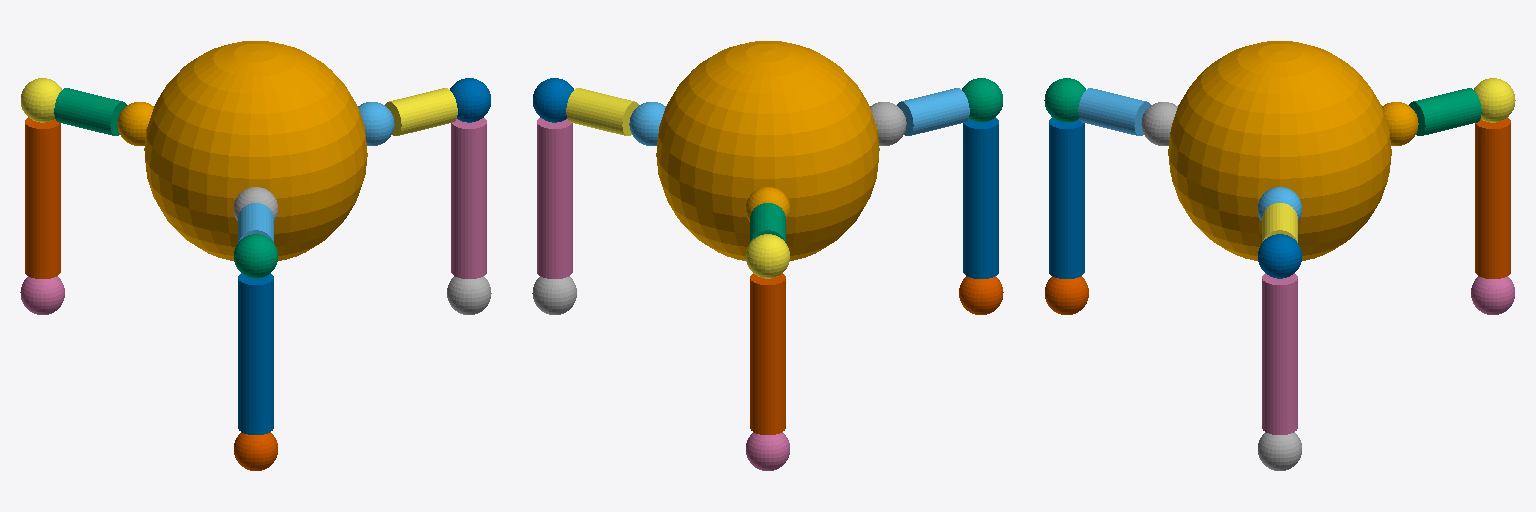
robot.urdf — spider:
<?xml version="1.0"?>
<robot name="spider">
<link name="eye">
  <inertial>
   <mass value="1"/>
   <inertia ixx="0.1" ixy="0" ixz="0" iyy="0.1" iyz="0" izz="0.1"/>
  </inertial>
  <collision>
    <origin rpy="0 0 0" xyz="0 0 0"/>
    <geometry>
      <sphere radius="0.5"/>
    </geometry>
  </collision>
  <visual>
    <origin rpy="0 0 0" xyz="0 0 0"/>
    <geometry>
      <sphere radius="0.5"/>
    </geometry>
  </visual>
</link>

<link name="eye_sphere_0">
  <inertial>
   <mass value="1"/>
   <inertia ixx="0.004" ixy="0" ixz="0" iyy="0.004" iyz="0" izz="0.004"/>
  </inertial>
  <collision>
    <origin rpy="0 0 0" xyz="0.6 0.0 0"/>
    <geometry>
      <sphere radius="0.1"/>
    </geometry>
  </collision>
  <visual>
    <origin rpy="0 0 0" xyz="0.6 0.0 0"/>
    <geometry>
      <sphere radius="0.1"/>
    </geometry>
  </visual>
</link>

<joint name="eye_sphere_0_fixed" type="fixed">
  <origin rpy="0 0 0" xyz="0 0 0"/>
  <parent link="eye"/>
  <child link="eye_sphere_0"/>
</joint>

<joint name="leg_0_link0_spherical_Z" type="revolute">
  <origin rpy="0 0 0" xyz="0.6 0.0 0"/>
  <parent link="eye_sphere_0"/>
  <child link="eye_sphere_0_spherical_joint_link"/>
  <axis xyz="0 0 1"/>
  <dynamics damping="1" friction="0"/>
  <limit lower="-0.785398163397" upper="0.785398163397" effort="0.5" velocity="100"/>
</joint>

<link name="eye_sphere_0_spherical_joint_link" physical="0">
  <inertial>
   <mass value="1"/>
   <inertia ixx="4e-07" ixy="0" ixz="0" iyy="4e-07" iyz="0" izz="4e-07"/>
  </inertial>
  <collision>
    <origin rpy="0 0 0" xyz="0 0 0"/>
    <geometry>
      <sphere radius="0.001"/>
    </geometry>
  </collision>
  <visual>
    <origin rpy="0 0 0" xyz="0 0 0"/>
    <geometry>
      <sphere radius="0.001"/>
    </geometry>
  </visual>
</link>

<joint name="leg_0_link0_spherical_Y" type="revolute">
  <origin rpy="0 0 0" xyz="0 0 0"/>
  <parent link="eye_sphere_0_spherical_joint_link"/>
  <child link="leg_0_link0"/>
  <axis xyz="0 1 0"/>
  <dynamics damping="1" friction="0"/>
  <limit lower="-0.785398163397" upper="0.785398163397" effort="0.5" velocity="100"/>
</joint>

 <link name="leg_0_link0">
  <inertial>
    <mass value="1"/>
    <inertia ixx="0.00860833333333" ixy="0" ixz="0" iyy="0.00860833333333" iyz="0" izz="0.0016"/>
  </inertial>
  <visual>
    <origin rpy="0 1.57 0.0" xyz="0.25 0.0 0"/>
    <geometry>
      <cylinder length="0.29" radius="0.08"/>
    </geometry>
  </visual>
  <collision>
    <origin rpy="0 1.57 0.0" xyz="0.25 0.0 0"/>
    <geometry>
      <cylinder length="0.29" radius="0.08"/>
    </geometry>
  </collision>
 </link>

<link name="leg_0_link0_sphere">
  <inertial>
   <mass value="1"/>
   <inertia ixx="0.004" ixy="0" ixz="0" iyy="0.004" iyz="0" izz="0.004"/>
  </inertial>
  <collision>
    <origin rpy="0 0 0" xyz="0.5 0.0 0"/>
    <geometry>
      <sphere radius="0.1"/>
    </geometry>
  </collision>
  <visual>
    <origin rpy="0 0 0" xyz="0.5 0.0 0"/>
    <geometry>
      <sphere radius="0.1"/>
    </geometry>
  </visual>
</link>

<joint name="leg_0_link0_fixed" type="fixed">
  <origin rpy="0 0 0" xyz="0 0 0"/>
  <parent link="leg_0_link0"/>
  <child link="leg_0_link0_sphere"/>
</joint>

<joint name="leg_0_link1_spherical_Z" type="revolute">
  <origin rpy="0 0 0" xyz="0.5 0.0 0"/>
  <parent link="leg_0_link0_sphere"/>
  <child link="leg_0_link0_sphere_spherical_joint_link"/>
  <axis xyz="0 0 1"/>
  <dynamics damping="1" friction="0"/>
  <limit lower="-0.785398163397" upper="0.785398163397" effort="0.5" velocity="100"/>
</joint>

<link name="leg_0_link0_sphere_spherical_joint_link" physical="0">
  <inertial>
   <mass value="1"/>
   <inertia ixx="4e-07" ixy="0" ixz="0" iyy="4e-07" iyz="0" izz="4e-07"/>
  </inertial>
  <collision>
    <origin rpy="0 0 0" xyz="0 0 0"/>
    <geometry>
      <sphere radius="0.001"/>
    </geometry>
  </collision>
  <visual>
    <origin rpy="0 0 0" xyz="0 0 0"/>
    <geometry>
      <sphere radius="0.001"/>
    </geometry>
  </visual>
</link>

<joint name="leg_0_link1_spherical_Y" type="revolute">
  <origin rpy="0 0 0" xyz="0 0 0"/>
  <parent link="leg_0_link0_sphere_spherical_joint_link"/>
  <child link="leg_0_link1"/>
  <axis xyz="0 1 0"/>
  <dynamics damping="1" friction="0"/>
  <limit lower="-0.785398163397" upper="0.785398163397" effort="0.5" velocity="100"/>
</joint>

 <link name="leg_0_link1">
  <inertial>
    <mass value="1"/>
    <inertia ixx="0.0472333333333" ixy="0" ixz="0" iyy="0.0472333333333" iyz="0" izz="0.0016"/>
  </inertial>
  <visual>
    <origin rpy="0 0 0.0" xyz="0 0 -0.475"/>
    <geometry>
      <cylinder length="0.74" radius="0.08"/>
    </geometry>
  </visual>
  <collision>
    <origin rpy="0 0 0.0" xyz="0 0 -0.475"/>
    <geometry>
      <cylinder length="0.74" radius="0.08"/>
    </geometry>
  </collision>
 </link>

<link name="leg_0_link1_sphere">
  <inertial>
   <mass value="1"/>
   <inertia ixx="0.004" ixy="0" ixz="0" iyy="0.004" iyz="0" izz="0.004"/>
  </inertial>
  <collision>
    <origin rpy="0 0 0" xyz="0 0 -0.95"/>
    <geometry>
      <sphere radius="0.1"/>
    </geometry>
  </collision>
  <visual>
    <origin rpy="0 0 0" xyz="0 0 -0.95"/>
    <geometry>
      <sphere radius="0.1"/>
    </geometry>
  </visual>
</link>

<joint name="leg_0_link1_fixed" type="fixed">
  <origin rpy="0 0 0" xyz="0 0 0"/>
  <parent link="leg_0_link1"/>
  <child link="leg_0_link1_sphere"/>
</joint>

<link name="eye_sphere_1">
  <inertial>
   <mass value="1"/>
   <inertia ixx="0.004" ixy="0" ixz="0" iyy="0.004" iyz="0" izz="0.004"/>
  </inertial>
  <collision>
    <origin rpy="0 0 0" xyz="-0.3 0.519615242271 0"/>
    <geometry>
      <sphere radius="0.1"/>
    </geometry>
  </collision>
  <visual>
    <origin rpy="0 0 0" xyz="-0.3 0.519615242271 0"/>
    <geometry>
      <sphere radius="0.1"/>
    </geometry>
  </visual>
</link>

<joint name="eye_sphere_1_fixed" type="fixed">
  <origin rpy="0 0 0" xyz="0 0 0"/>
  <parent link="eye"/>
  <child link="eye_sphere_1"/>
</joint>

<joint name="leg_1_link0_spherical_Z" type="revolute">
  <origin rpy="0 0 0" xyz="-0.3 0.519615242271 0"/>
  <parent link="eye_sphere_1"/>
  <child link="eye_sphere_1_spherical_joint_link"/>
  <axis xyz="0 0 1"/>
  <dynamics damping="1" friction="0"/>
  <limit lower="-0.785398163397" upper="0.785398163397" effort="0.5" velocity="100"/>
</joint>

<link name="eye_sphere_1_spherical_joint_link" physical="0">
  <inertial>
   <mass value="1"/>
   <inertia ixx="4e-07" ixy="0" ixz="0" iyy="4e-07" iyz="0" izz="4e-07"/>
  </inertial>
  <collision>
    <origin rpy="0 0 0" xyz="0 0 0"/>
    <geometry>
      <sphere radius="0.001"/>
    </geometry>
  </collision>
  <visual>
    <origin rpy="0 0 0" xyz="0 0 0"/>
    <geometry>
      <sphere radius="0.001"/>
    </geometry>
  </visual>
</link>

<joint name="leg_1_link0_spherical_Y" type="revolute">
  <origin rpy="0 0 0" xyz="0 0 0"/>
  <parent link="eye_sphere_1_spherical_joint_link"/>
  <child link="leg_1_link0"/>
  <axis xyz="0 1 0"/>
  <dynamics damping="1" friction="0"/>
  <limit lower="-0.785398163397" upper="0.785398163397" effort="0.5" velocity="100"/>
</joint>

 <link name="leg_1_link0">
  <inertial>
    <mass value="1"/>
    <inertia ixx="0.00860833333333" ixy="0" ixz="0" iyy="0.00860833333333" iyz="0" izz="0.0016"/>
  </inertial>
  <visual>
    <origin rpy="0 1.57 2.09439510239" xyz="-0.125 0.216506350946 0"/>
    <geometry>
      <cylinder length="0.29" radius="0.08"/>
    </geometry>
  </visual>
  <collision>
    <origin rpy="0 1.57 2.09439510239" xyz="-0.125 0.216506350946 0"/>
    <geometry>
      <cylinder length="0.29" radius="0.08"/>
    </geometry>
  </collision>
 </link>

<link name="leg_1_link0_sphere">
  <inertial>
   <mass value="1"/>
   <inertia ixx="0.004" ixy="0" ixz="0" iyy="0.004" iyz="0" izz="0.004"/>
  </inertial>
  <collision>
    <origin rpy="0 0 0" xyz="-0.25 0.433012701892 0"/>
    <geometry>
      <sphere radius="0.1"/>
    </geometry>
  </collision>
  <visual>
    <origin rpy="0 0 0" xyz="-0.25 0.433012701892 0"/>
    <geometry>
      <sphere radius="0.1"/>
    </geometry>
  </visual>
</link>

<joint name="leg_1_link0_fixed" type="fixed">
  <origin rpy="0 0 0" xyz="0 0 0"/>
  <parent link="leg_1_link0"/>
  <child link="leg_1_link0_sphere"/>
</joint>

<joint name="leg_1_link1_spherical_Z" type="revolute">
  <origin rpy="0 0 0" xyz="-0.25 0.433012701892 0"/>
  <parent link="leg_1_link0_sphere"/>
  <child link="leg_1_link0_sphere_spherical_joint_link"/>
  <axis xyz="0 0 1"/>
  <dynamics damping="1" friction="0"/>
  <limit lower="-0.785398163397" upper="0.785398163397" effort="0.5" velocity="100"/>
</joint>

<link name="leg_1_link0_sphere_spherical_joint_link" physical="0">
  <inertial>
   <mass value="1"/>
   <inertia ixx="4e-07" ixy="0" ixz="0" iyy="4e-07" iyz="0" izz="4e-07"/>
  </inertial>
  <collision>
    <origin rpy="0 0 0" xyz="0 0 0"/>
    <geometry>
      <sphere radius="0.001"/>
    </geometry>
  </collision>
  <visual>
    <origin rpy="0 0 0" xyz="0 0 0"/>
    <geometry>
      <sphere radius="0.001"/>
    </geometry>
  </visual>
</link>

<joint name="leg_1_link1_spherical_Y" type="revolute">
  <origin rpy="0 0 0" xyz="0 0 0"/>
  <parent link="leg_1_link0_sphere_spherical_joint_link"/>
  <child link="leg_1_link1"/>
  <axis xyz="0 1 0"/>
  <dynamics damping="1" friction="0"/>
  <limit lower="-0.785398163397" upper="0.785398163397" effort="0.5" velocity="100"/>
</joint>

 <link name="leg_1_link1">
  <inertial>
    <mass value="1"/>
    <inertia ixx="0.0472333333333" ixy="0" ixz="0" iyy="0.0472333333333" iyz="0" izz="0.0016"/>
  </inertial>
  <visual>
    <origin rpy="0 0 2.09439510239" xyz="0 0 -0.475"/>
    <geometry>
      <cylinder length="0.74" radius="0.08"/>
    </geometry>
  </visual>
  <collision>
    <origin rpy="0 0 2.09439510239" xyz="0 0 -0.475"/>
    <geometry>
      <cylinder length="0.74" radius="0.08"/>
    </geometry>
  </collision>
 </link>

<link name="leg_1_link1_sphere">
  <inertial>
   <mass value="1"/>
   <inertia ixx="0.004" ixy="0" ixz="0" iyy="0.004" iyz="0" izz="0.004"/>
  </inertial>
  <collision>
    <origin rpy="0 0 0" xyz="0 0 -0.95"/>
    <geometry>
      <sphere radius="0.1"/>
    </geometry>
  </collision>
  <visual>
    <origin rpy="0 0 0" xyz="0 0 -0.95"/>
    <geometry>
      <sphere radius="0.1"/>
    </geometry>
  </visual>
</link>

<joint name="leg_1_link1_fixed" type="fixed">
  <origin rpy="0 0 0" xyz="0 0 0"/>
  <parent link="leg_1_link1"/>
  <child link="leg_1_link1_sphere"/>
</joint>

<link name="eye_sphere_2">
  <inertial>
   <mass value="1"/>
   <inertia ixx="0.004" ixy="0" ixz="0" iyy="0.004" iyz="0" izz="0.004"/>
  </inertial>
  <collision>
    <origin rpy="0 0 0" xyz="-0.3 -0.519615242271 0"/>
    <geometry>
      <sphere radius="0.1"/>
    </geometry>
  </collision>
  <visual>
    <origin rpy="0 0 0" xyz="-0.3 -0.519615242271 0"/>
    <geometry>
      <sphere radius="0.1"/>
    </geometry>
  </visual>
</link>

<joint name="eye_sphere_2_fixed" type="fixed">
  <origin rpy="0 0 0" xyz="0 0 0"/>
  <parent link="eye"/>
  <child link="eye_sphere_2"/>
</joint>

<joint name="leg_2_link0_spherical_Z" type="revolute">
  <origin rpy="0 0 0" xyz="-0.3 -0.519615242271 0"/>
  <parent link="eye_sphere_2"/>
  <child link="eye_sphere_2_spherical_joint_link"/>
  <axis xyz="0 0 1"/>
  <dynamics damping="1" friction="0"/>
  <limit lower="-0.785398163397" upper="0.785398163397" effort="0.5" velocity="100"/>
</joint>

<link name="eye_sphere_2_spherical_joint_link" physical="0">
  <inertial>
   <mass value="1"/>
   <inertia ixx="4e-07" ixy="0" ixz="0" iyy="4e-07" iyz="0" izz="4e-07"/>
  </inertial>
  <collision>
    <origin rpy="0 0 0" xyz="0 0 0"/>
    <geometry>
      <sphere radius="0.001"/>
    </geometry>
  </collision>
  <visual>
    <origin rpy="0 0 0" xyz="0 0 0"/>
    <geometry>
      <sphere radius="0.001"/>
    </geometry>
  </visual>
</link>

<joint name="leg_2_link0_spherical_Y" type="revolute">
  <origin rpy="0 0 0" xyz="0 0 0"/>
  <parent link="eye_sphere_2_spherical_joint_link"/>
  <child link="leg_2_link0"/>
  <axis xyz="0 1 0"/>
  <dynamics damping="1" friction="0"/>
  <limit lower="-0.785398163397" upper="0.785398163397" effort="0.5" velocity="100"/>
</joint>

 <link name="leg_2_link0">
  <inertial>
    <mass value="1"/>
    <inertia ixx="0.00860833333333" ixy="0" ixz="0" iyy="0.00860833333333" iyz="0" izz="0.0016"/>
  </inertial>
  <visual>
    <origin rpy="0 1.57 4.18879020479" xyz="-0.125 -0.216506350946 0"/>
    <geometry>
      <cylinder length="0.29" radius="0.08"/>
    </geometry>
  </visual>
  <collision>
    <origin rpy="0 1.57 4.18879020479" xyz="-0.125 -0.216506350946 0"/>
    <geometry>
      <cylinder length="0.29" radius="0.08"/>
    </geometry>
  </collision>
 </link>

<link name="leg_2_link0_sphere">
  <inertial>
   <mass value="1"/>
   <inertia ixx="0.004" ixy="0" ixz="0" iyy="0.004" iyz="0" izz="0.004"/>
  </inertial>
  <collision>
    <origin rpy="0 0 0" xyz="-0.25 -0.433012701892 0"/>
    <geometry>
      <sphere radius="0.1"/>
    </geometry>
  </collision>
  <visual>
    <origin rpy="0 0 0" xyz="-0.25 -0.433012701892 0"/>
    <geometry>
      <sphere radius="0.1"/>
    </geometry>
  </visual>
</link>

<joint name="leg_2_link0_fixed" type="fixed">
  <origin rpy="0 0 0" xyz="0 0 0"/>
  <parent link="leg_2_link0"/>
  <child link="leg_2_link0_sphere"/>
</joint>

<joint name="leg_2_link1_spherical_Z" type="revolute">
  <origin rpy="0 0 0" xyz="-0.25 -0.433012701892 0"/>
  <parent link="leg_2_link0_sphere"/>
  <child link="leg_2_link0_sphere_spherical_joint_link"/>
  <axis xyz="0 0 1"/>
  <dynamics damping="1" friction="0"/>
  <limit lower="-0.785398163397" upper="0.785398163397" effort="0.5" velocity="100"/>
</joint>

<link name="leg_2_link0_sphere_spherical_joint_link" physical="0">
  <inertial>
   <mass value="1"/>
   <inertia ixx="4e-07" ixy="0" ixz="0" iyy="4e-07" iyz="0" izz="4e-07"/>
  </inertial>
  <collision>
    <origin rpy="0 0 0" xyz="0 0 0"/>
    <geometry>
      <sphere radius="0.001"/>
    </geometry>
  </collision>
  <visual>
    <origin rpy="0 0 0" xyz="0 0 0"/>
    <geometry>
      <sphere radius="0.001"/>
    </geometry>
  </visual>
</link>

<joint name="leg_2_link1_spherical_Y" type="revolute">
  <origin rpy="0 0 0" xyz="0 0 0"/>
  <parent link="leg_2_link0_sphere_spherical_joint_link"/>
  <child link="leg_2_link1"/>
  <axis xyz="0 1 0"/>
  <dynamics damping="1" friction="0"/>
  <limit lower="-0.785398163397" upper="0.785398163397" effort="0.5" velocity="100"/>
</joint>

 <link name="leg_2_link1">
  <inertial>
    <mass value="1"/>
    <inertia ixx="0.0472333333333" ixy="0" ixz="0" iyy="0.0472333333333" iyz="0" izz="0.0016"/>
  </inertial>
  <visual>
    <origin rpy="0 0 4.18879020479" xyz="0 0 -0.475"/>
    <geometry>
      <cylinder length="0.74" radius="0.08"/>
    </geometry>
  </visual>
  <collision>
    <origin rpy="0 0 4.18879020479" xyz="0 0 -0.475"/>
    <geometry>
      <cylinder length="0.74" radius="0.08"/>
    </geometry>
  </collision>
 </link>

<link name="leg_2_link1_sphere">
  <inertial>
   <mass value="1"/>
   <inertia ixx="0.004" ixy="0" ixz="0" iyy="0.004" iyz="0" izz="0.004"/>
  </inertial>
  <collision>
    <origin rpy="0 0 0" xyz="0 0 -0.95"/>
    <geometry>
      <sphere radius="0.1"/>
    </geometry>
  </collision>
  <visual>
    <origin rpy="0 0 0" xyz="0 0 -0.95"/>
    <geometry>
      <sphere radius="0.1"/>
    </geometry>
  </visual>
</link>

<joint name="leg_2_link1_fixed" type="fixed">
  <origin rpy="0 0 0" xyz="0 0 0"/>
  <parent link="leg_2_link1"/>
  <child link="leg_2_link1_sphere"/>
</joint>

  <klampt package_root="../../.." default_acc_max="4" >
  </klampt>
</robot>

--- Facts derived from the render (not from the file) ---
The picture shows the robot from 3 angles, left to right: view 1: azimuth 30°, elevation 25°; view 2: azimuth 150°, elevation 25°; view 3: azimuth 270°, elevation 25°; orthographic projection.
Robot: spider — 22 links, 21 joints (12 revolute, 9 fixed); root link eye; default pose: every joint at zero.
Visible links, largest first — view 1: eye, leg_2_link1, leg_1_link1, leg_0_link1, leg_0_link0, leg_1_link0, leg_2_link0_sphere, leg_2_link1_sphere, leg_1_link1_sphere, leg_0_link1_sphere, leg_0_link0_sphere, leg_1_link0_sphere (+4 smaller); view 2: eye, leg_1_link1, leg_2_link1, leg_0_link1, leg_0_link0, leg_2_link0, leg_1_link0_sphere, leg_1_link1_sphere, leg_2_link1_sphere, leg_0_link1_sphere, leg_0_link0_sphere, leg_2_link0_sphere (+4 smaller); view 3: eye, leg_0_link1, leg_1_link1, leg_2_link1, leg_1_link0, leg_2_link0, leg_0_link0_sphere, leg_0_link1_sphere, leg_1_link1_sphere, leg_2_link1_sphere, leg_1_link0_sphere, leg_2_link0_sphere (+4 smaller).
Boxes of the visible links, box(x1,y1,x2,y2) form: eye: box(144, 41, 367, 260); leg_2_link1: box(238, 273, 273, 434); leg_1_link1: box(25, 117, 60, 278); leg_0_link1: box(451, 118, 486, 278); leg_0_link0: box(385, 88, 457, 135); leg_1_link0: box(54, 88, 126, 135); leg_2_link0_sphere: box(234, 234, 277, 278); leg_2_link1_sphere: box(234, 432, 277, 470); leg_1_link1_sphere: box(20, 276, 64, 314); leg_0_link1_sphere: box(447, 276, 491, 314); leg_0_link0_sphere: box(450, 78, 490, 122); leg_1_link0_sphere: box(21, 78, 61, 122); eye: box(656, 41, 879, 260); leg_1_link1: box(750, 273, 785, 434); leg_2_link1: box(963, 117, 998, 278); leg_0_link1: box(537, 118, 572, 278); leg_0_link0: box(566, 88, 638, 135); leg_2_link0: box(897, 88, 969, 135); leg_1_link0_sphere: box(746, 234, 789, 278); leg_1_link1_sphere: box(746, 432, 789, 470); leg_2_link1_sphere: box(959, 276, 1003, 314); leg_0_link1_sphere: box(532, 276, 576, 314); leg_0_link0_sphere: box(533, 78, 573, 122); leg_2_link0_sphere: box(962, 78, 1002, 122); eye: box(1168, 41, 1391, 260); leg_0_link1: box(1262, 273, 1297, 434); leg_1_link1: box(1475, 117, 1510, 278); leg_2_link1: box(1049, 117, 1084, 278); leg_1_link0: box(1409, 88, 1481, 135); leg_2_link0: box(1078, 88, 1150, 135); leg_0_link0_sphere: box(1258, 234, 1301, 278); leg_0_link1_sphere: box(1258, 432, 1301, 470); leg_1_link1_sphere: box(1471, 276, 1514, 314); leg_2_link1_sphere: box(1045, 276, 1088, 314); leg_1_link0_sphere: box(1474, 78, 1515, 122); leg_2_link0_sphere: box(1044, 78, 1085, 122).
Bounding box of the posed robot: 1.85 × 2.11 × 1.55 m (x, y, z).
Geometry: primitives only (box / cylinder / sphere), no mesh files.